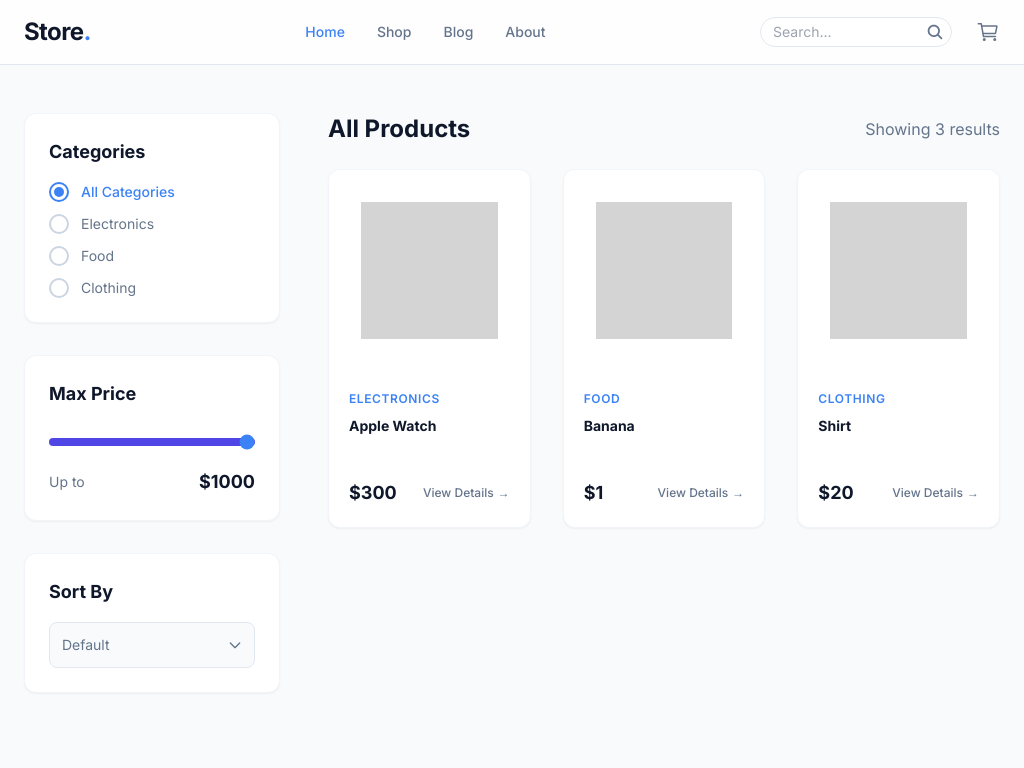
Test: Shop Page › filters products by category
Expected: the heading "Apple Watch" is shown, [349,417,436,434]
Click the radio button labelled "electronics". click: (102, 224)
box: [49,214,154,234]
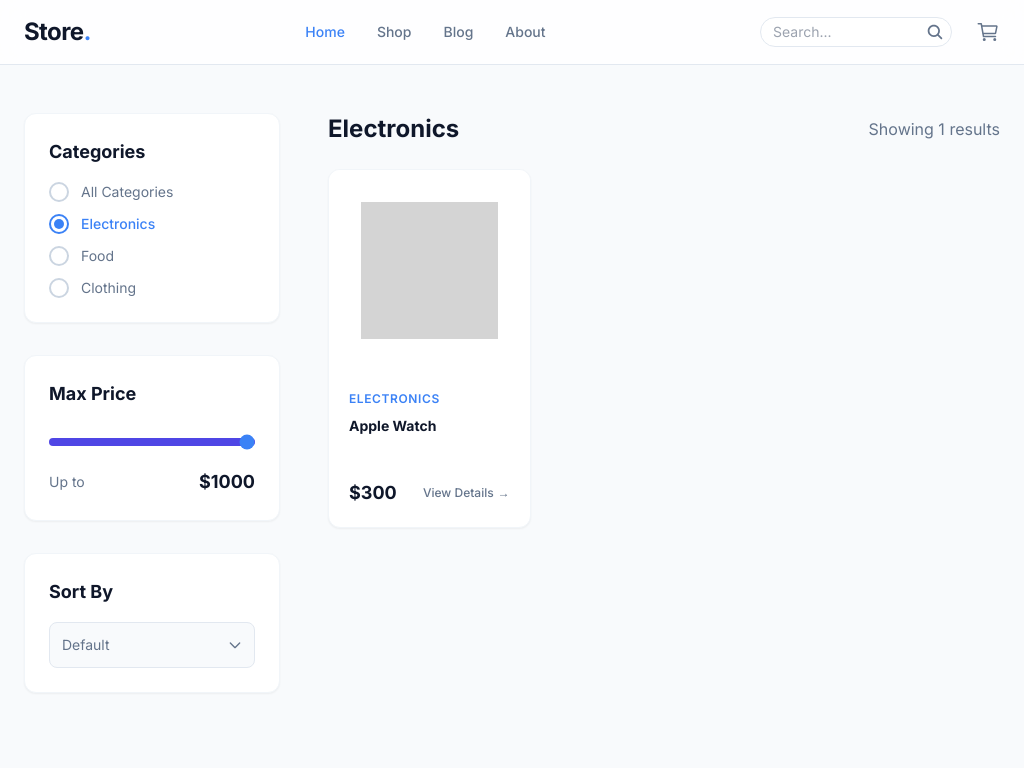
Expected: the heading "Apple Watch" is shown, [349,417,436,434]
Expected: the link "Banana" is gone
